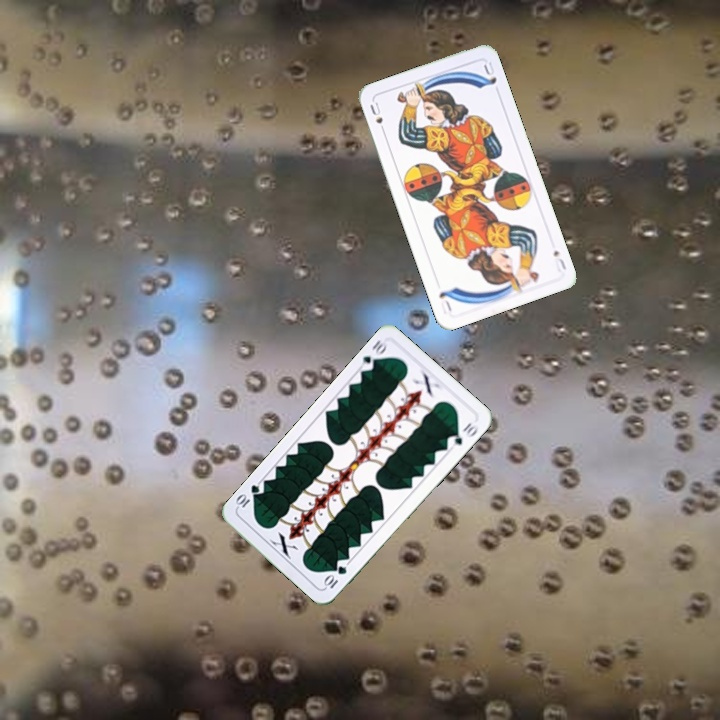G10: (356, 335, 391, 374), (320, 562, 350, 591)
SU: (366, 98, 388, 137), (549, 246, 569, 275)
